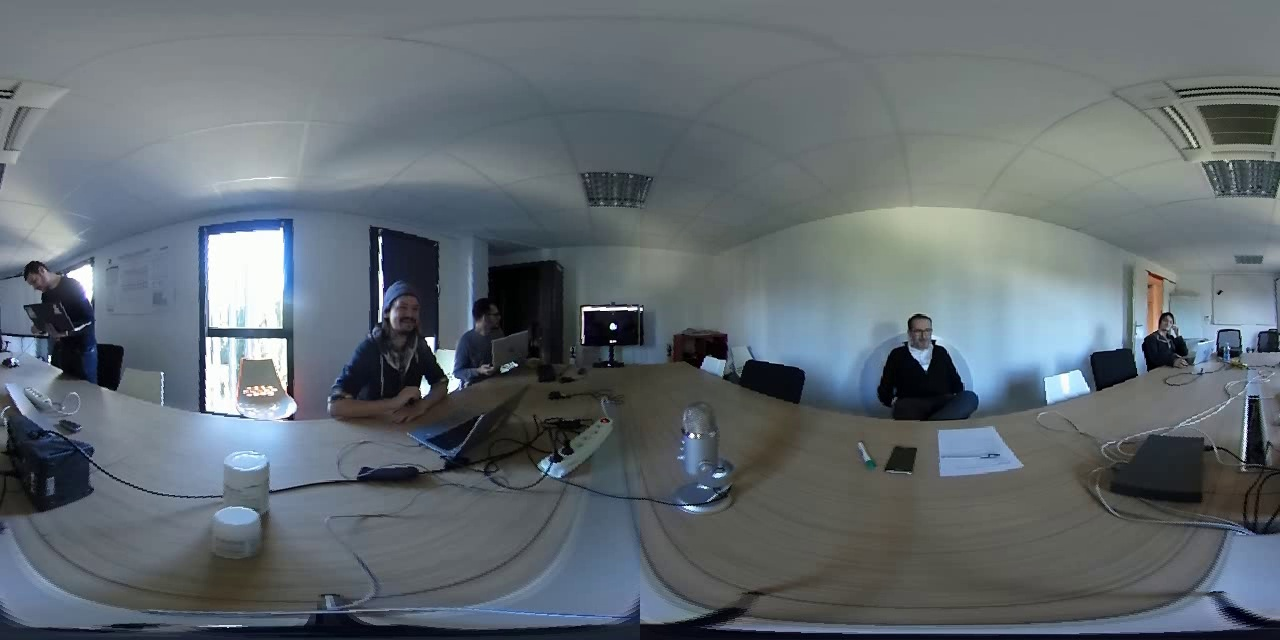person: (873, 303, 977, 427), (341, 270, 443, 394), (11, 252, 99, 365), (1143, 297, 1189, 376), (459, 288, 501, 368)
